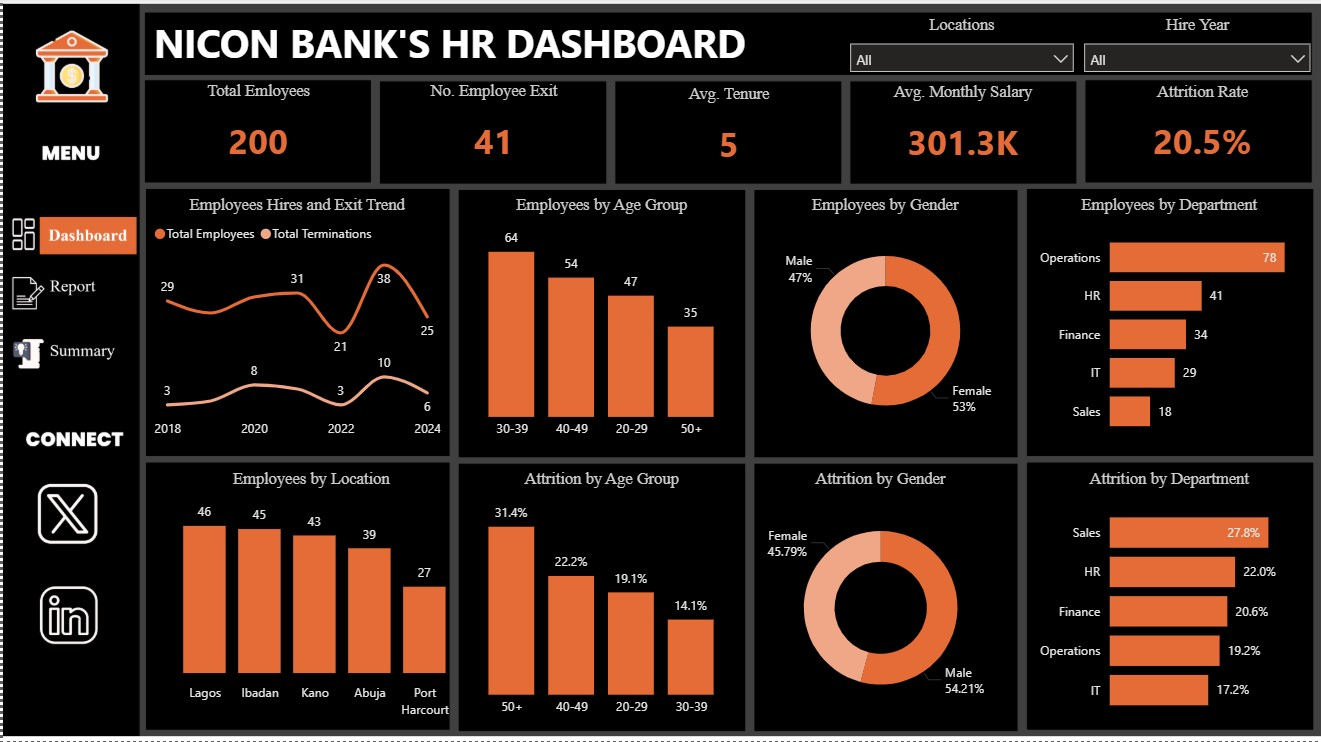

This screenshot's page, from the dashboard's own definition file:
{"tool":"powerbi","page":{"name":"Page 2","canvas":[1280,720],"ordinal":1},"visuals":[{"type":"image","box":[0,0,1279.4,720],"z":0},{"type":"lineChart","title":"Employees Hires and Exit Trend","fields":{"Y":["Measure.Total Employees","Measure.Total Terminations"],"Category":["Nicon Bank.Hire Date.Variation.Date Hierarchy.Year"]},"box":[140.9,191.1,288.2,244.5],"z":1000},{"type":"clusteredColumnChart","title":"Employees by Age Group","fields":{"Category":["Nicon Bank.Age Group"],"Y":["Measure.Total Employees"]},"box":[442,191.1,276.9,244.5],"z":2000},{"type":"clusteredColumnChart","title":"Employees by Location","fields":{"Y":["Measure.Total Employees"],"Category":["Nicon Bank.Location"]},"box":[140.9,456.6,315.7,247.7],"z":3000},{"type":"clusteredColumnChart","title":"Attrition by Age Group","fields":{"Y":["Measure.Attrition Rate"],"Category":["Nicon Bank.Age Group"]},"box":[442,456.6,276.9,247.7],"z":4000},{"type":"donutChart","title":"Employees by Gender","fields":{"Y":["Measure.Total Employees"],"Category":["Nicon Bank.Gender"]},"box":[731.9,191.1,247.7,244.5],"z":5000},{"type":"donutChart","title":"Attrition by Gender","fields":{"Y":["Measure.Attrition Rate"],"Category":["Nicon Bank.Gender"]},"box":[723.8,456.6,255.8,249.4],"z":6000},{"type":"clusteredBarChart","title":"Employees by Department","fields":{"Category":["Nicon Bank.Department"],"Y":["Measure.Total Employees"]},"box":[995.8,191.1,272,244.5],"z":7000},{"type":"clusteredBarChart","title":"Attrition by Department","fields":{"Y":["Measure.Attrition Rate"],"Category":["Nicon Bank.Department"]},"box":[995.8,456.6,272,249.4],"z":8000},{"type":"cardVisual","title":"Total Emloyees","fields":{"Data":["Measure.Total Employees"]},"box":[140.9,79.3,213.7,93.9],"z":9000},{"type":"cardVisual","title":"No. Employee Exit","fields":{"Data":["Measure.Total Terminations"]},"box":[370.8,79.3,210.5,93.9],"z":10000},{"type":"cardVisual","title":"Avg. Tenure","fields":{"Data":["Measure.Average Tenure (Years)"]},"box":[597.5,82.6,215.4,93.9],"z":11000},{"type":"cardVisual","title":"Avg. Monthly Salary","fields":{"Data":["Measure.Avg Monthly Salary"]},"box":[824.2,81,215.4,93.9],"z":12000},{"type":"cardVisual","title":"Attrition Rate","fields":{"Data":["Measure.Attrition Rate"]},"box":[1054.1,81,220.2,92.3],"z":13000},{"type":"textbox","box":[140.9,11.3,646.1,68],"z":14000},{"type":"slicer","title":"Hire Year","fields":{"Values":["Nicon Bank.Hire Date.Variation.Date Hierarchy.Year"]},"box":[1039.5,16.2,239.6,56.7],"z":15000},{"type":"slicer","title":"Locations","fields":{"Values":["Nicon Bank.Location"]},"box":[812.9,16.2,236.4,56.7],"z":16000}]}

Visuals, with their boxes in screenshot pixels (x1, y1, x2, y2), scaled from the page's 1280x720 canvas onto the 1321x742 screenshot:
image: [x1=0, y1=0, x2=1320, y2=741]
"Employees Hires and Exit Trend" lineChart: [x1=145, y1=197, x2=443, y2=449]
"Employees by Age Group" clusteredColumnChart: [x1=456, y1=197, x2=742, y2=449]
"Employees by Location" clusteredColumnChart: [x1=145, y1=471, x2=471, y2=726]
"Attrition by Age Group" clusteredColumnChart: [x1=456, y1=471, x2=742, y2=726]
"Employees by Gender" donutChart: [x1=755, y1=197, x2=1011, y2=449]
"Attrition by Gender" donutChart: [x1=747, y1=471, x2=1011, y2=728]
"Employees by Department" clusteredBarChart: [x1=1028, y1=197, x2=1308, y2=449]
"Attrition by Department" clusteredBarChart: [x1=1028, y1=471, x2=1308, y2=728]
"Total Emloyees" cardVisual: [x1=145, y1=82, x2=366, y2=178]
"No. Employee Exit" cardVisual: [x1=383, y1=82, x2=600, y2=178]
"Avg. Tenure" cardVisual: [x1=617, y1=85, x2=839, y2=182]
"Avg. Monthly Salary" cardVisual: [x1=851, y1=83, x2=1073, y2=180]
"Attrition Rate" cardVisual: [x1=1088, y1=83, x2=1315, y2=179]
textbox: [x1=145, y1=12, x2=812, y2=82]
"Hire Year" slicer: [x1=1073, y1=17, x2=1320, y2=75]
"Locations" slicer: [x1=839, y1=17, x2=1083, y2=75]
